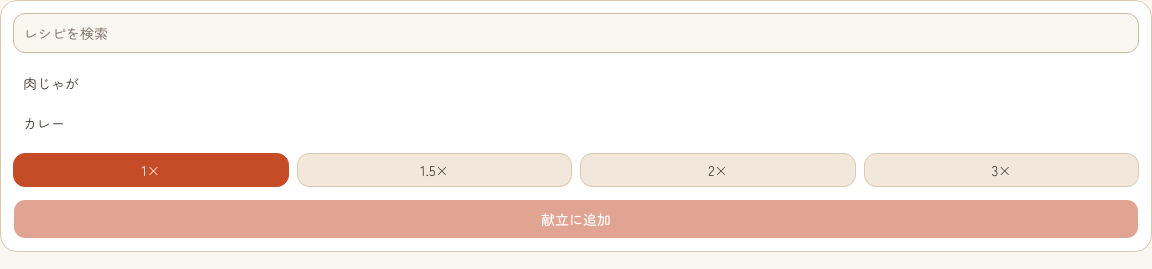
RecipePicker › WC-K-07: 検索結果 0 件で該当なし文言が表示される
The width and height of the screenshot is (1152, 269).
Step 1. Type "存在しない" into the search field labelled "レシピを検索" → coordinates (576, 33), box 13,13 -> 1139,53
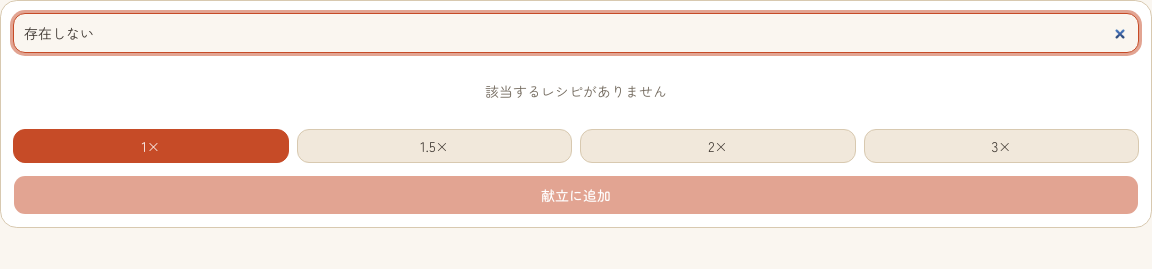
Now the text "該当するレシピがありません" is shown, box 485,81 -> 667,101
